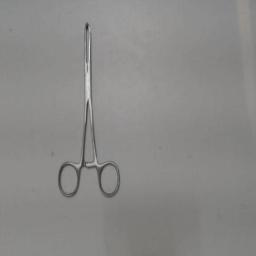Allis Tissue Forceps: (54, 12, 126, 202)
